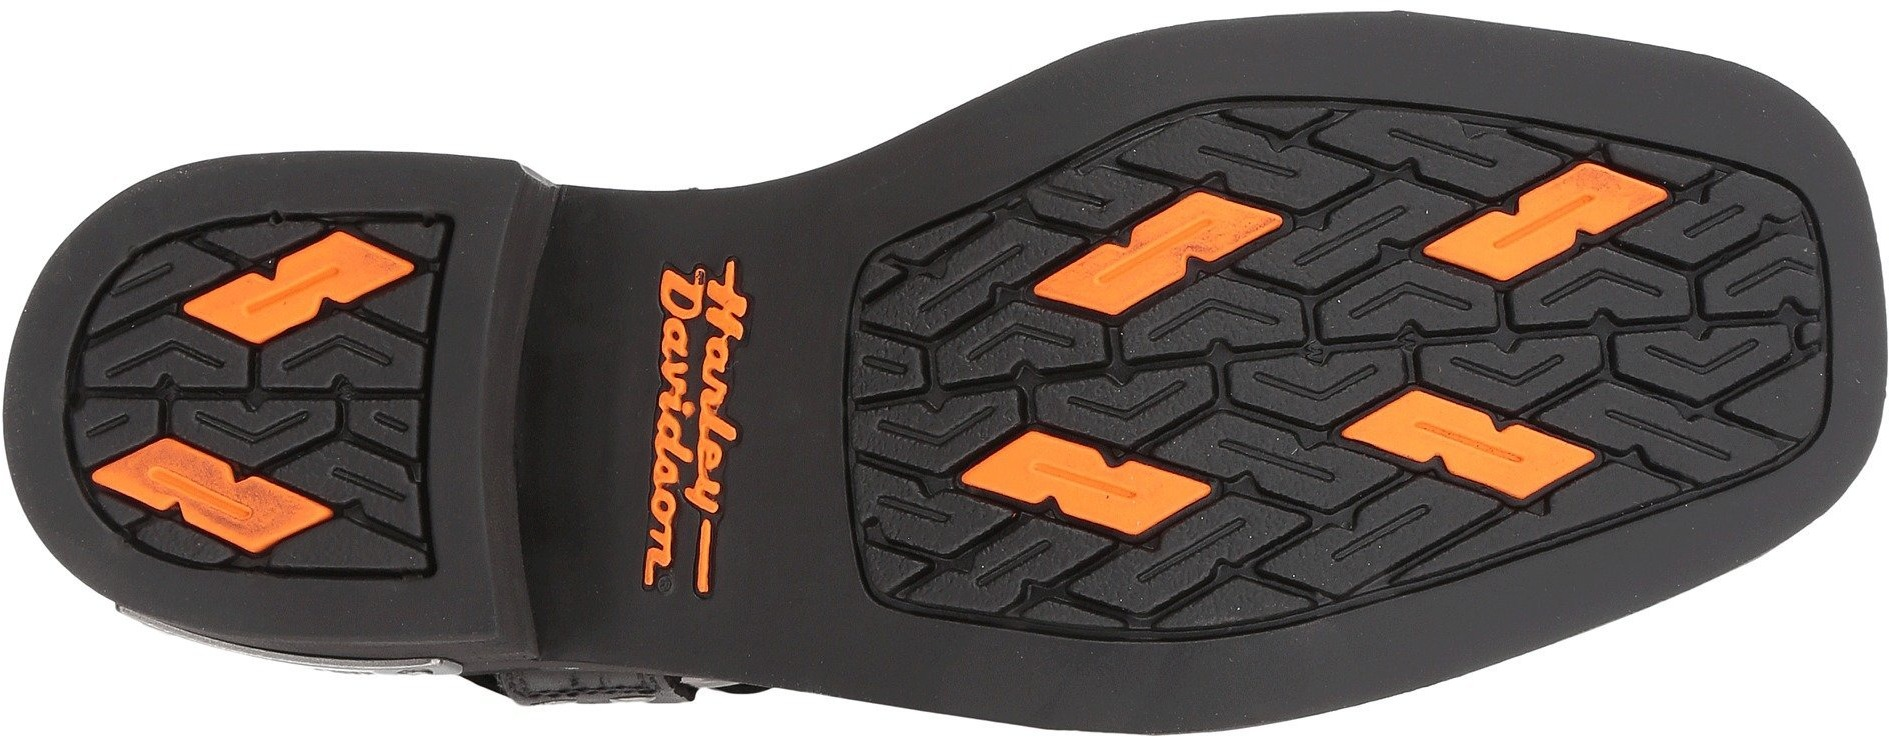chevron: (1126, 291, 1342, 476), (1564, 253, 1784, 430), (165, 325, 333, 479), (860, 295, 1016, 431)
text: (606, 240, 793, 393), (618, 421, 759, 560)
